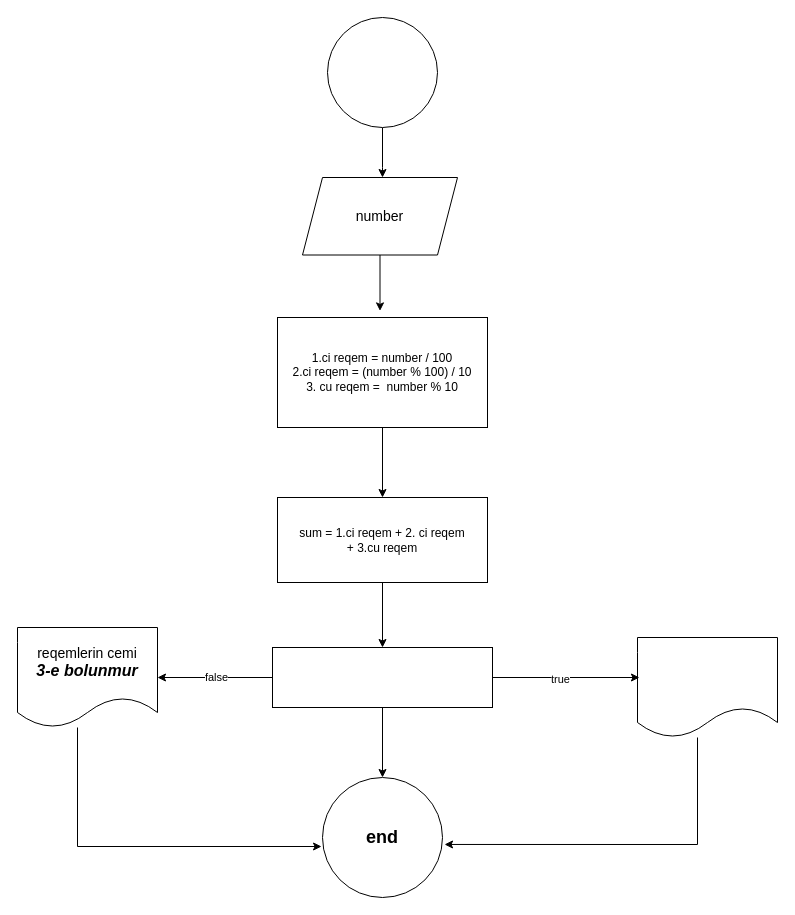
Some shapes in this 795 by 915 pixel diagram are drawn without their labels. The shapes that lost their labels are listed below. From the top down, each one's box as (x1, y1, x2, y2) in pixels, then its label:
(326, 16, 438, 128): start
(272, 646, 492, 708): sum % 3 = 0
(636, 636, 778, 738): reqemlerin cemi 3-e bolunur
